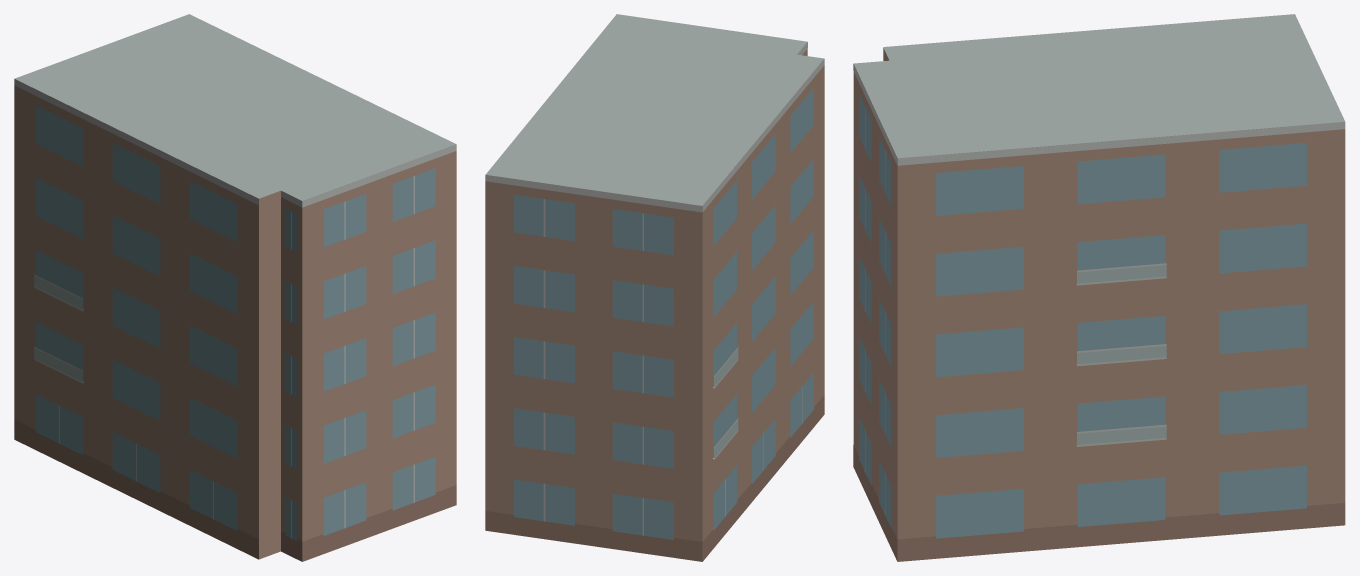
File: survey-upis-32882745.glb
3 views of the same model, side by side, from view 1: azimuth 30°, elevation 25°; view 2: azimuth 150°, elevation 25°; view 3: azimuth 270°, elevation 25° (orthographic). The views are drawn at different scales.
Parts seen in each view (by area): view 1: survey-upis-32882745.tmp; view 2: survey-upis-32882745.tmp; view 3: survey-upis-32882745.tmp.
Part boxes in pixels (box(x1,y1,x2,y2)): survey-upis-32882745.tmp: box(14, 14, 456, 561); survey-upis-32882745.tmp: box(485, 14, 824, 561); survey-upis-32882745.tmp: box(853, 14, 1345, 561).
Size of the model in its own units: 10.3 by 13.4 by 14.82.
